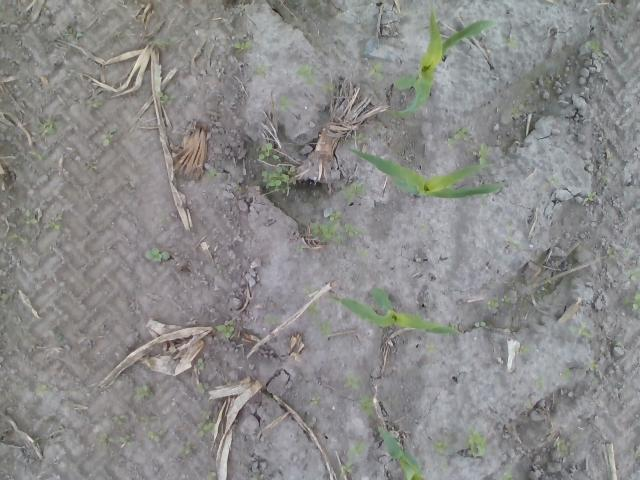Maize: (390, 0, 498, 116), (344, 146, 504, 200), (328, 282, 458, 334), (377, 425, 424, 480)
Weeds: (259, 142, 296, 195), (308, 210, 361, 243), (289, 62, 335, 96), (462, 427, 487, 458), (98, 432, 134, 450), (344, 368, 368, 391), (432, 438, 448, 472), (447, 126, 470, 146), (192, 420, 216, 439), (344, 183, 368, 202), (580, 38, 608, 54), (37, 116, 57, 137), (214, 318, 236, 337), (145, 248, 171, 264), (568, 321, 592, 338), (96, 126, 116, 146), (366, 59, 384, 81), (622, 292, 640, 313), (360, 394, 374, 418), (134, 384, 152, 402), (496, 464, 514, 480), (146, 430, 162, 448), (262, 314, 278, 330), (554, 438, 568, 456), (62, 30, 83, 42), (23, 207, 37, 225), (232, 40, 250, 54), (560, 367, 573, 386), (352, 442, 368, 457), (503, 33, 519, 48), (306, 302, 320, 319), (29, 148, 46, 162), (255, 62, 272, 76), (278, 96, 292, 112), (479, 143, 489, 165), (158, 92, 176, 104), (319, 318, 332, 334), (86, 97, 103, 109), (160, 36, 176, 48), (178, 442, 192, 455), (35, 384, 48, 398), (624, 270, 640, 281), (504, 238, 520, 249), (302, 287, 321, 296), (84, 160, 98, 172), (112, 415, 126, 426), (537, 287, 545, 306), (587, 359, 600, 370), (530, 376, 544, 386), (310, 394, 320, 408), (350, 132, 366, 140), (472, 320, 488, 328), (341, 462, 352, 473), (584, 192, 596, 202), (47, 222, 64, 229), (250, 472, 264, 480), (487, 300, 498, 310), (426, 342, 437, 352), (608, 248, 618, 258), (518, 343, 528, 353), (550, 176, 560, 186), (0, 291, 9, 302), (206, 471, 216, 480), (511, 108, 520, 118), (446, 320, 456, 329), (419, 223, 426, 235), (500, 295, 510, 303), (196, 360, 206, 368), (600, 175, 608, 184), (8, 232, 18, 239), (196, 382, 203, 391), (295, 245, 304, 252), (208, 172, 218, 176)
